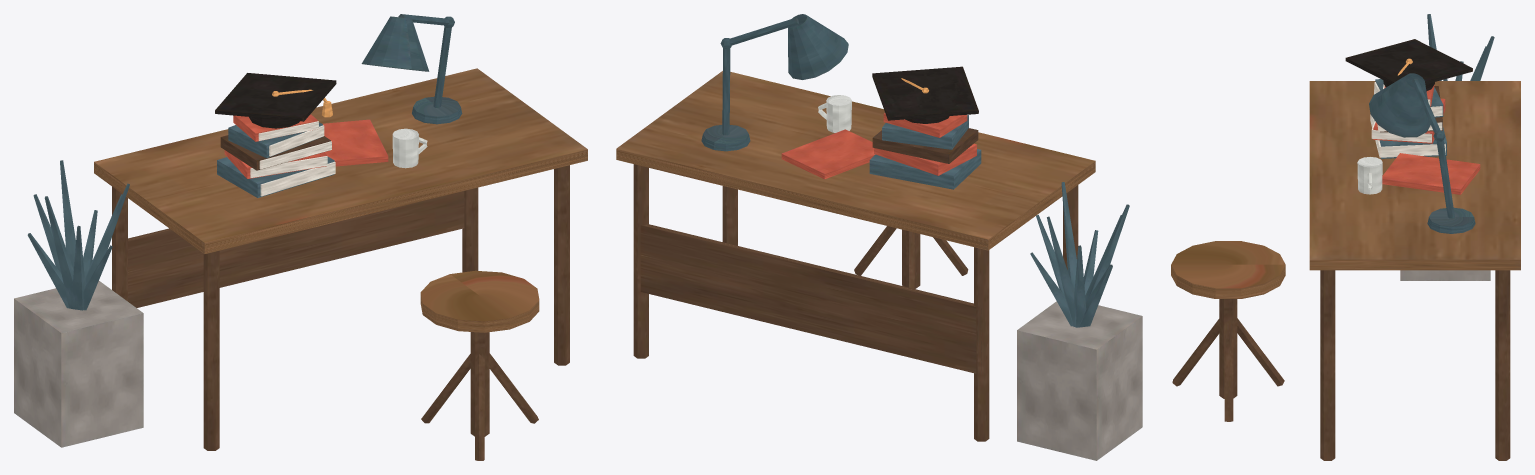
The model's file is prop-1-university.glb.
3 views of the same model, side by side, from view 1: azimuth 30°, elevation 25°; view 2: azimuth 150°, elevation 25°; view 3: azimuth 270°, elevation 25° (orthographic). The views are drawn at different scales.
Visible parts, largest first — view 1: geometry_0; view 2: geometry_0; view 3: geometry_0.
Boxes of the visible parts, x1,y1,x2,y2 form: geometry_0: [14, 14, 587, 460]; geometry_0: [616, 14, 1142, 460]; geometry_0: [1171, 14, 1520, 460].
Bounding box in the file's own units: 1.76 × 1.21 × 1.16.
1 material, 1 textured.
